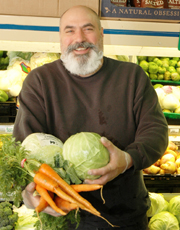cabbage: (62, 132, 109, 183), (13, 131, 62, 173), (146, 211, 179, 229), (144, 192, 167, 217), (168, 194, 179, 212)
